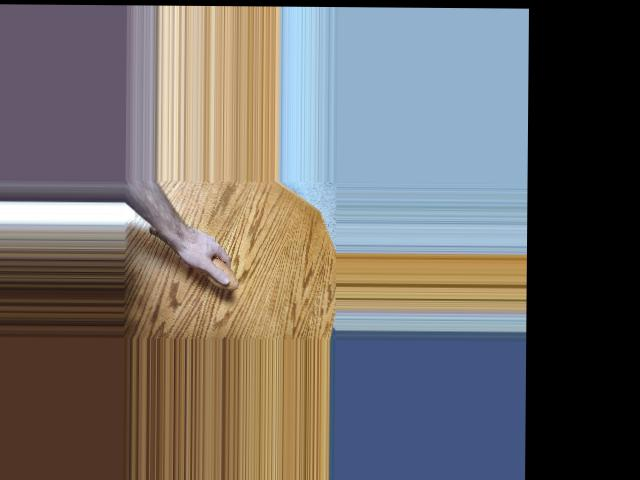sweet_potato: (144, 218, 239, 291)
